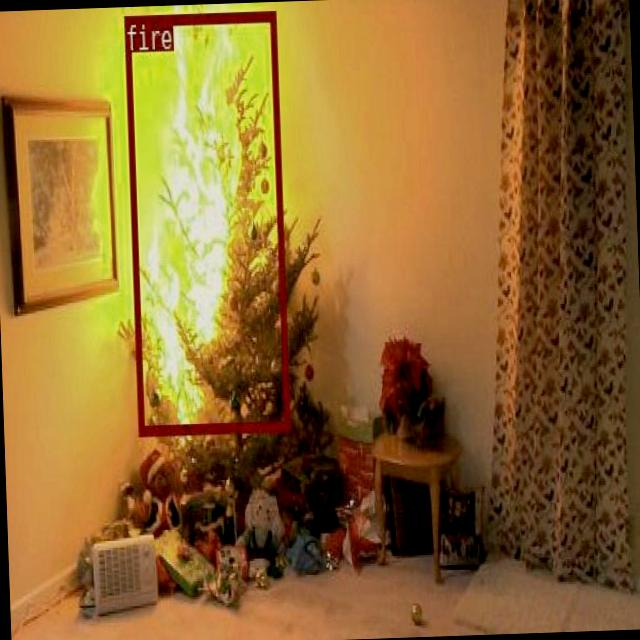fire: (123, 9, 290, 434)
